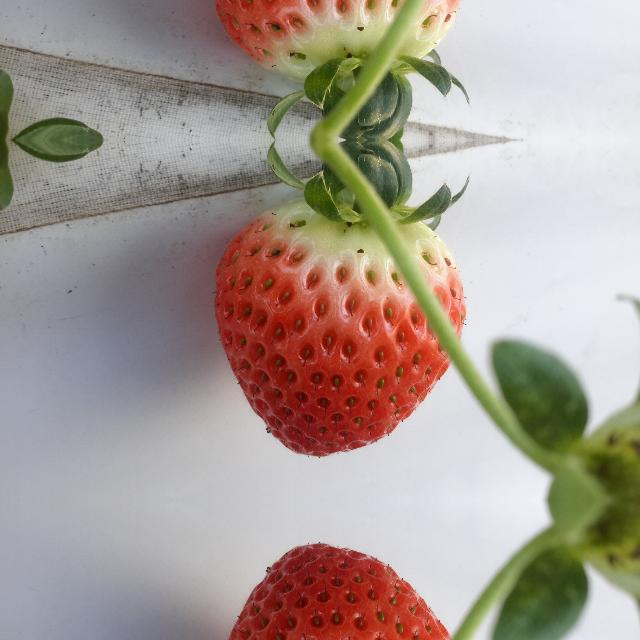Health_100: (214, 198, 466, 456), (214, 544, 465, 640), (214, 0, 465, 82)
